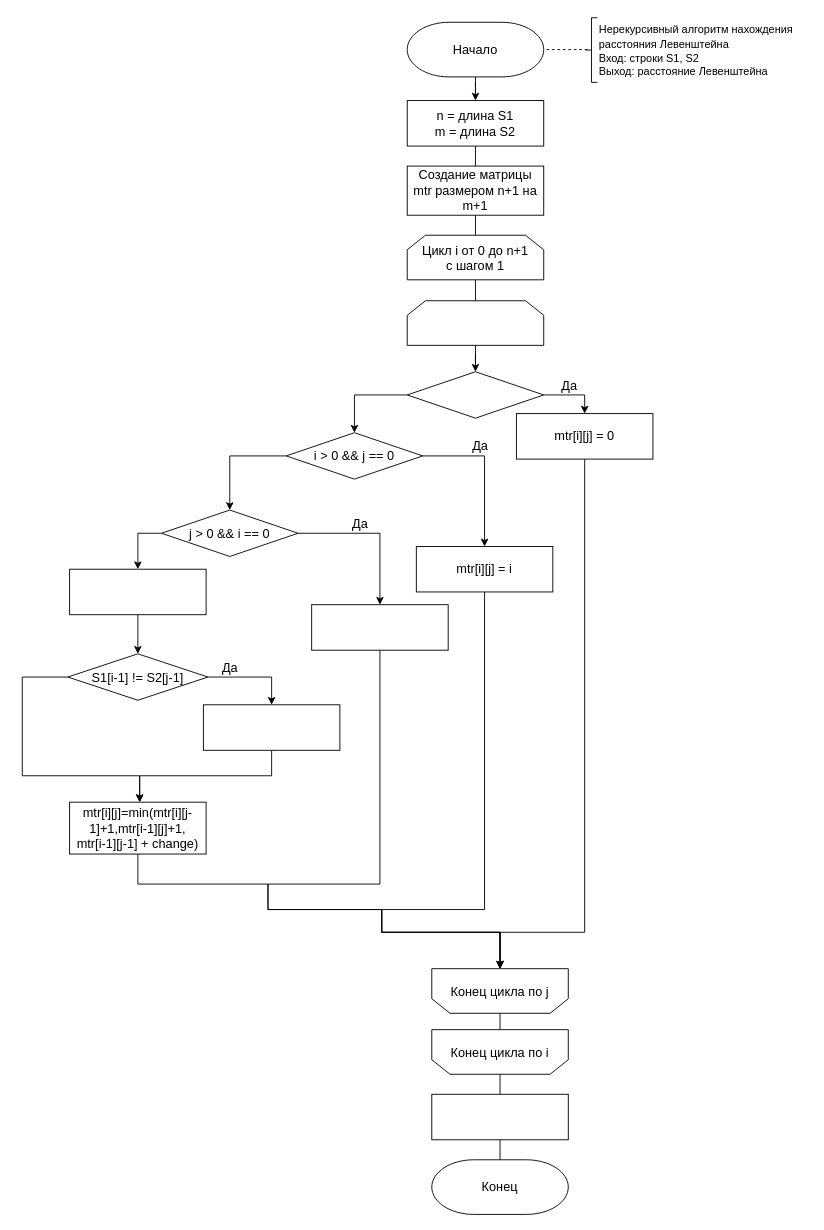
This 824x1230 diagram has some shape labels left out. The centre of each missing label's shape, as x and y in pixels:
change = 0: the point at 137,591
change = 1: the point at 271,727
i == 0 && j == 0: the point at 475,394
mtr[i][j] = j: the point at 379,627
Вернуть mtr[n][m]: the point at 499,1116
Цикл j от 0 до m+1 c шагом 1: the point at 475,322
